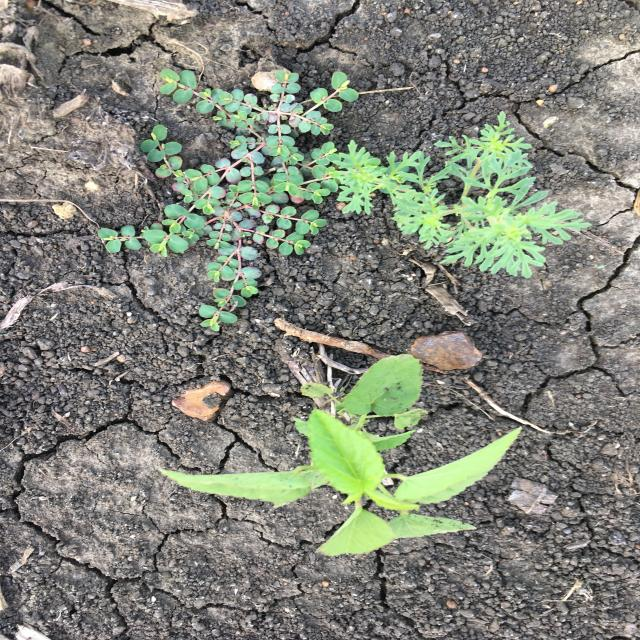PricklySida: (154, 353, 525, 558)
Ragweed: (334, 109, 594, 281)
SpottedSpurge: (94, 66, 362, 335)
